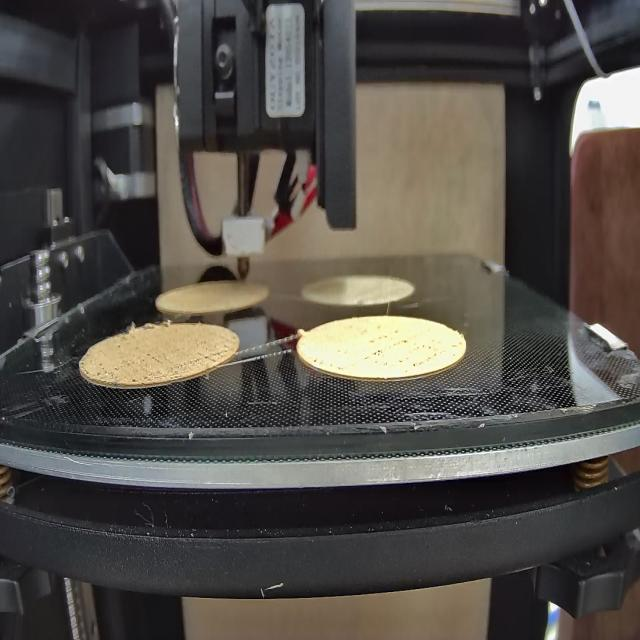under_extrusion: (361, 329, 440, 370), (92, 351, 162, 385), (183, 349, 225, 372), (309, 351, 345, 374)
